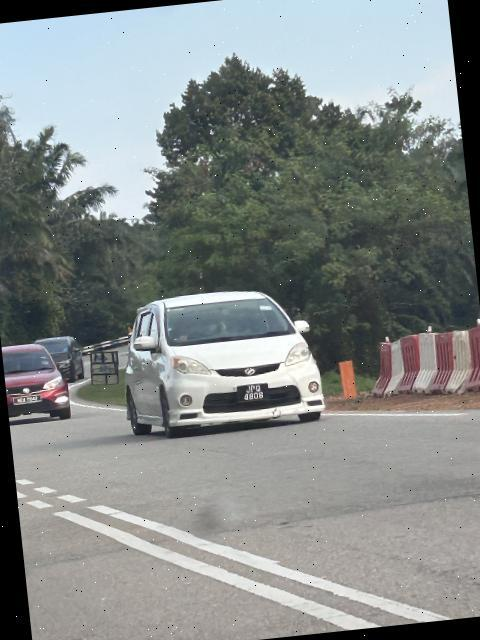JPQ4808: (238, 383, 272, 406)
License_Plate: (238, 383, 272, 406), (14, 396, 44, 407)
